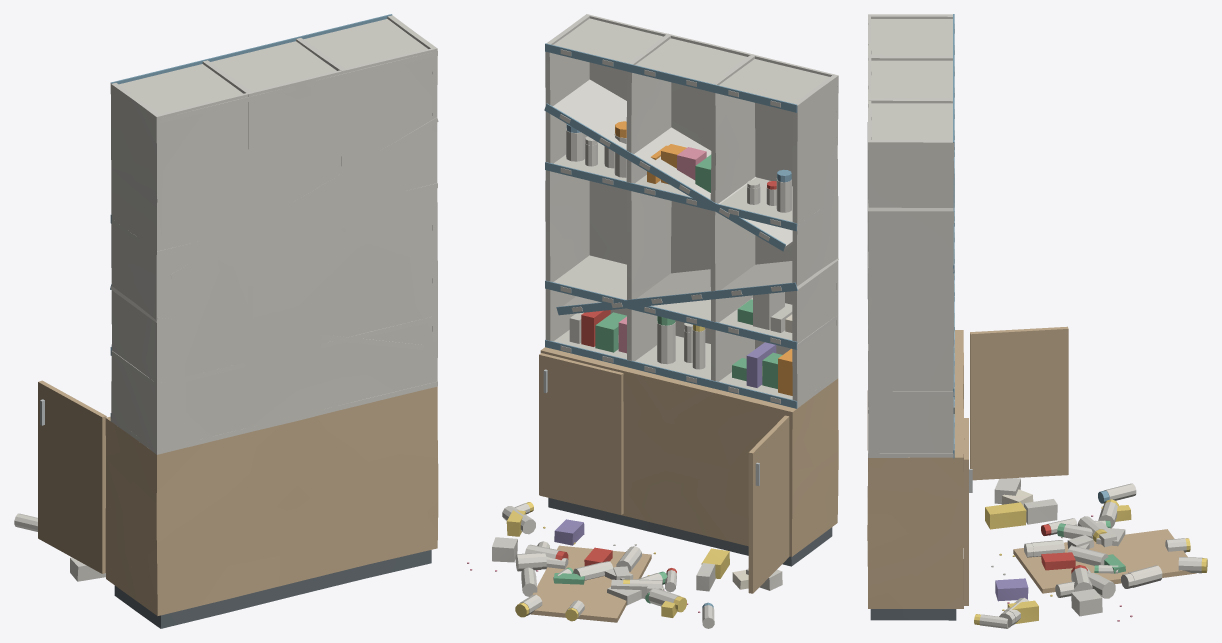
File: pharmacy_shelf_broken.fbx
3 views of the same model, side by side, from view 1: azimuth 30°, elevation 25°; view 2: azimuth 150°, elevation 25°; view 3: azimuth 270°, elevation 25° (orthographic). The views are drawn at different scales.
Visible parts, largest first — view 1: pharmacy_shelf_broken, pharmacy_shelf_broken_debris; view 2: pharmacy_shelf_broken, pharmacy_shelf_broken_debris; view 3: pharmacy_shelf_broken, pharmacy_shelf_broken_debris.
Boxes of the visible parts, x1,y1,x2,y2 form: pharmacy_shelf_broken: (38, 14, 438, 628); pharmacy_shelf_broken_debris: (14, 513, 105, 581); pharmacy_shelf_broken: (539, 14, 838, 593); pharmacy_shelf_broken_debris: (467, 502, 782, 628); pharmacy_shelf_broken: (867, 14, 1068, 620); pharmacy_shelf_broken_debris: (974, 478, 1207, 628).
Size of the model in its own units: 134 by 210 by 135.
